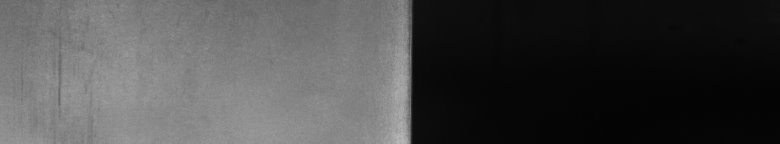ka: (50, 30, 84, 112)
